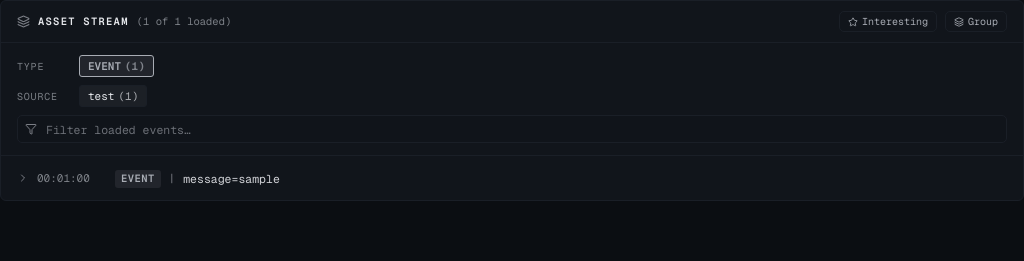
reopens without refetching the authorized full payload
Click the button "00:01:00 EVENT | message=sample": (63, 178) top-left (9, 164), bottom-right (999, 192)
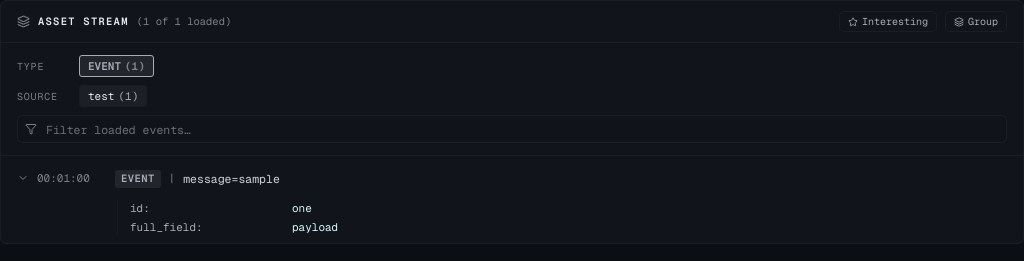
Expected: the text "payload" is shown, top-left (292, 218), bottom-right (338, 235)
Click the button "00:01:00 EVENT | message=sample": (63, 178) top-left (9, 164), bottom-right (999, 192)
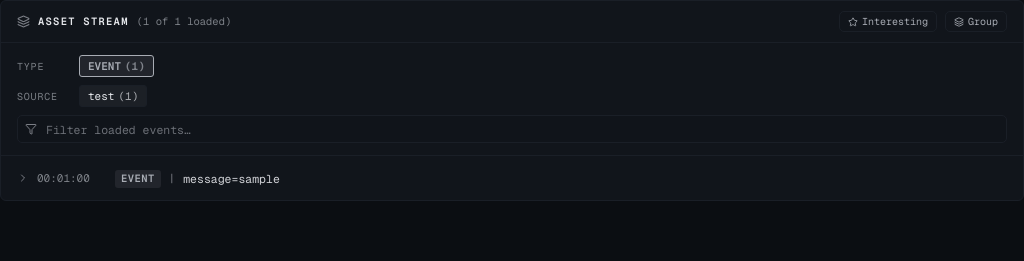
Click the button "00:01:00 EVENT | message=sample": (63, 178) top-left (9, 164), bottom-right (999, 192)
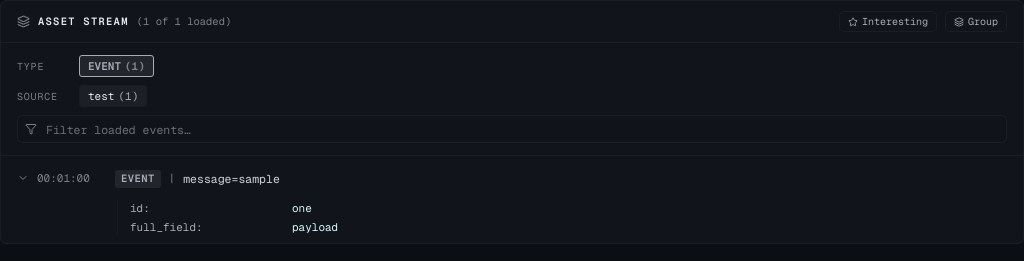
Expected: the text "payload" is shown, top-left (292, 218), bottom-right (338, 235)
